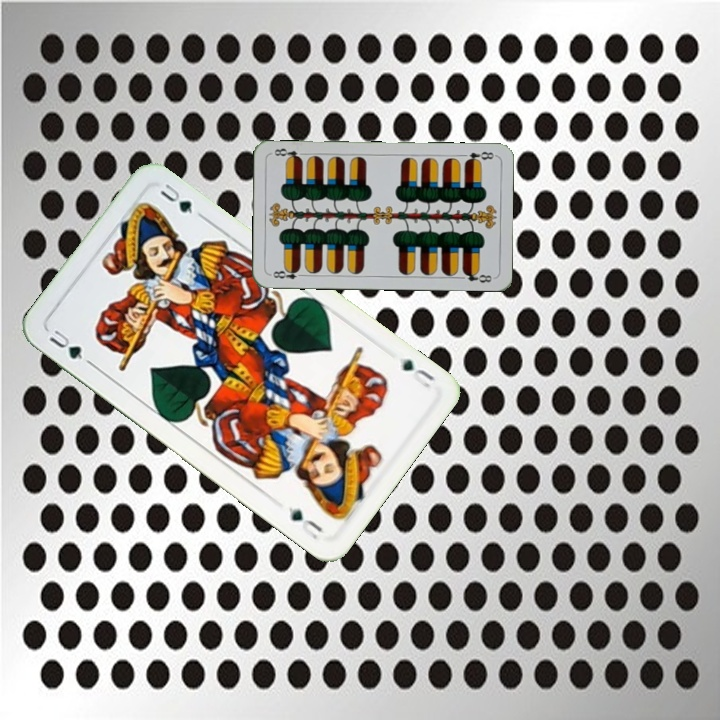E8: (267, 264, 307, 282), (461, 147, 497, 166)
GU: (45, 325, 94, 368), (395, 353, 438, 391)
